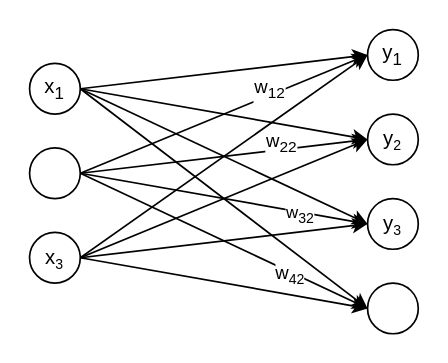
Image size: 448x363. Some labels were removed from this diagram. The shapes that lost their labels are listed below. From the top down, each one's box as (x1, y1, x2, y2) in pixels, then its label:
(28, 146, 80, 199): x 2
(366, 281, 418, 334): y 4
